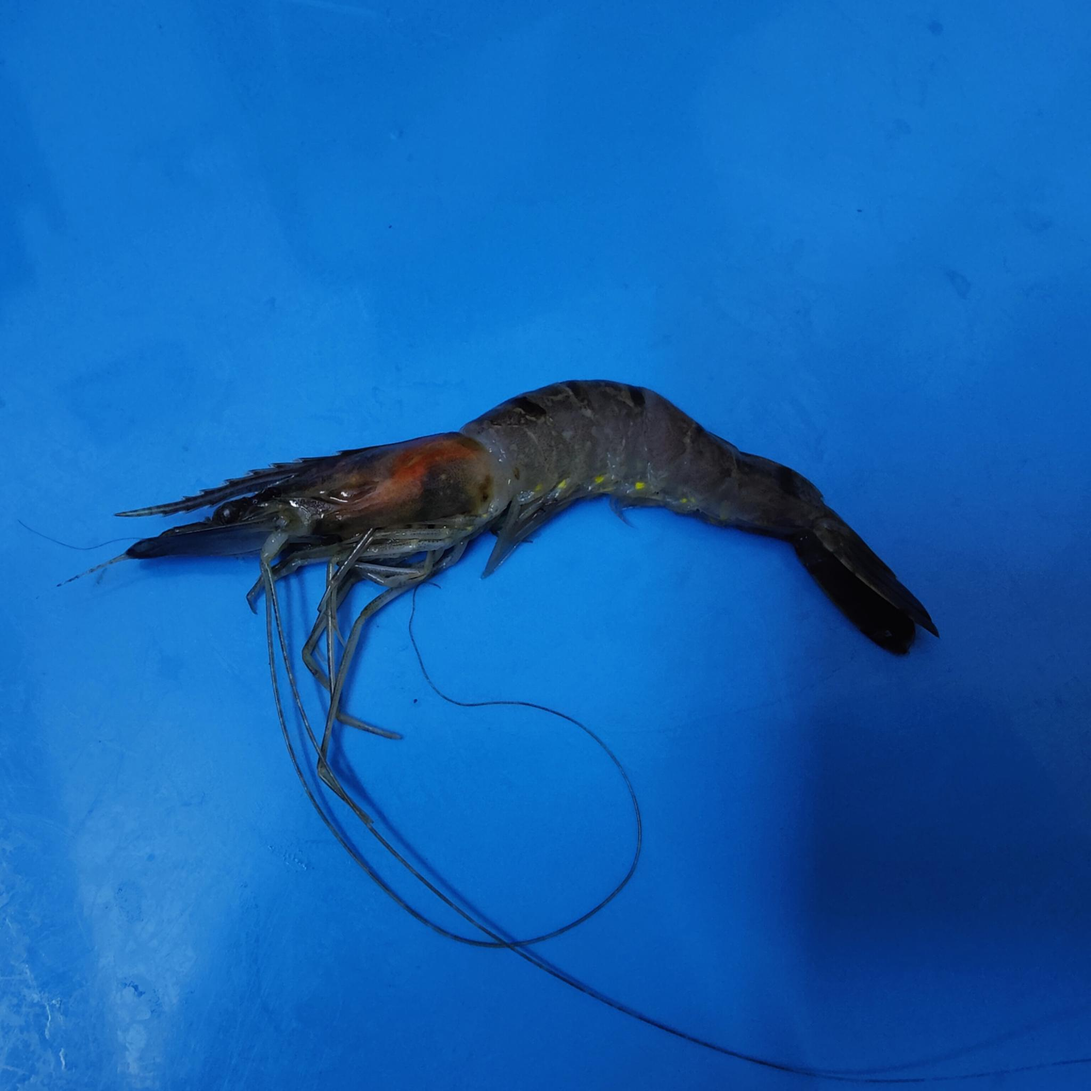blackgill: (313, 454, 493, 549)
